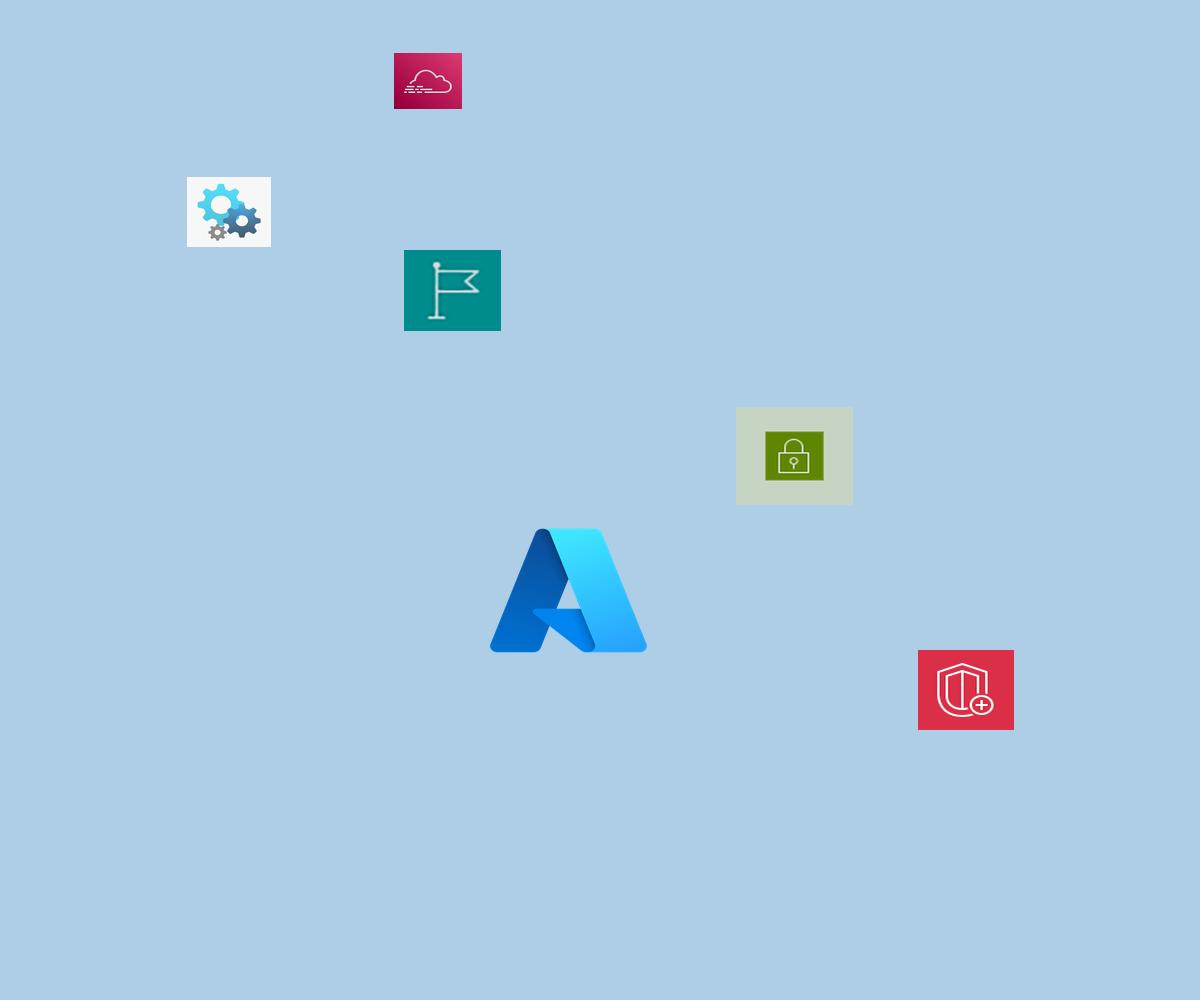AWS-CloudTrail: (394, 53, 462, 109)
AWS-Public-subnet: (736, 407, 853, 505)
AWS-Region: (404, 250, 501, 331)
AWS-Shield: (918, 650, 1014, 730)
Azure_api: (187, 177, 271, 247)
Azure_services: (483, 519, 654, 662)
